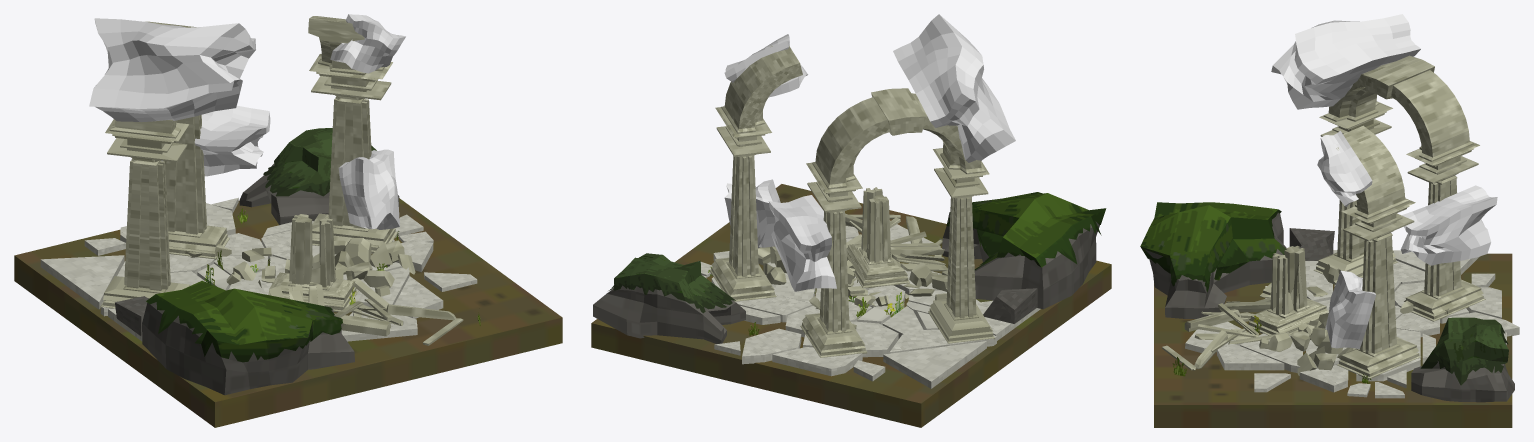
File: 废墟导出.fbx
3 renders of one model, left to right at view 1: azimuth 30°, elevation 25°; view 2: azimuth 150°, elevation 25°; view 3: azimuth 270°, elevation 25°, orthographic. The views are drawn at different scales.
Visible parts, largest first — view 1: 底面, 立方体.031, 立方体.004, 立方体.001, 立方体.019, 立方体.022, 立方体.028, 立方体.033, 立方体.029, 立方体.005, 立方体_cell.007, 立方体.030 (+23 smaller); view 2: 底面, 立方体.031, 圆环.001, 立方体.004, 立方体.019, 立方体.028, 立方体.003, 立方体.001, 立方体.029, 立方体.005, 圆环.002, 立方体.022 (+19 smaller); view 3: 底面, 立方体.004, 立方体.031, 圆环.001, 立方体.019, 立方体.029, 立方体.028, 立方体.001, 立方体.005, 圆环.002, 立方体.003, 立方体.033 (+26 smaller).
Boxes of the visible parts, x1=… form: 底面: x1=14, y1=198, x2=562, y2=427; 立方体.031: x1=89, y1=18, x2=255, y2=122; 立方体.004: x1=146, y1=280, x2=342, y2=362; 立方体.001: x1=142, y1=302, x2=354, y2=395; 立方体.019: x1=309, y1=54, x2=397, y2=252; 立方体.022: x1=123, y1=158, x2=170, y2=293; 立方体.028: x1=164, y1=115, x2=229, y2=259; 立方体.033: x1=338, y1=149, x2=399, y2=229; 立方体.029: x1=161, y1=105, x2=270, y2=176; 立方体.005: x1=263, y1=128, x2=376, y2=196; 立方体_cell.007: x1=40, y1=255, x2=124, y2=309; 立方体.030: x1=330, y1=14, x2=405, y2=73; 底面: x1=591, y1=184, x2=1111, y2=427; 立方体.031: x1=893, y1=14, x2=1015, y2=162; 圆环.001: x1=812, y1=88, x2=985, y2=189; 立方体.004: x1=946, y1=192, x2=1106, y2=269; 立方体.019: x1=709, y1=107, x2=776, y2=301; 立方体.028: x1=800, y1=162, x2=867, y2=357; 立方体.003: x1=593, y1=285, x2=745, y2=344; 立方体.001: x1=942, y1=212, x2=1099, y2=309; 立方体.029: x1=768, y1=195, x2=836, y2=291; 立方体.005: x1=608, y1=253, x2=735, y2=313; 圆环.002: x1=721, y1=45, x2=802, y2=133; 立方体.022: x1=944, y1=196, x2=978, y2=320; 底面: x1=1154, y1=253, x2=1512, y2=427; 立方体.004: x1=1140, y1=202, x2=1285, y2=292; 立方体.031: x1=1271, y1=14, x2=1420, y2=109; 圆环.001: x1=1323, y1=55, x2=1473, y2=161; 立方体.019: x1=1337, y1=198, x2=1421, y2=379; 立方体.029: x1=1400, y1=185, x2=1497, y2=265; 立方体.028: x1=1404, y1=141, x2=1485, y2=321; 立方体.001: x1=1145, y1=212, x2=1286, y2=318; 立方体.005: x1=1420, y1=317, x2=1508, y2=385; 圆环.002: x1=1336, y1=125, x2=1409, y2=219; 立方体.003: x1=1411, y1=342, x2=1514, y2=402; 立方体.033: x1=1325, y1=270, x2=1375, y2=348.
Bounding box in the file's own units: 739 × 628 × 752.
7 materials, 7 textured.
